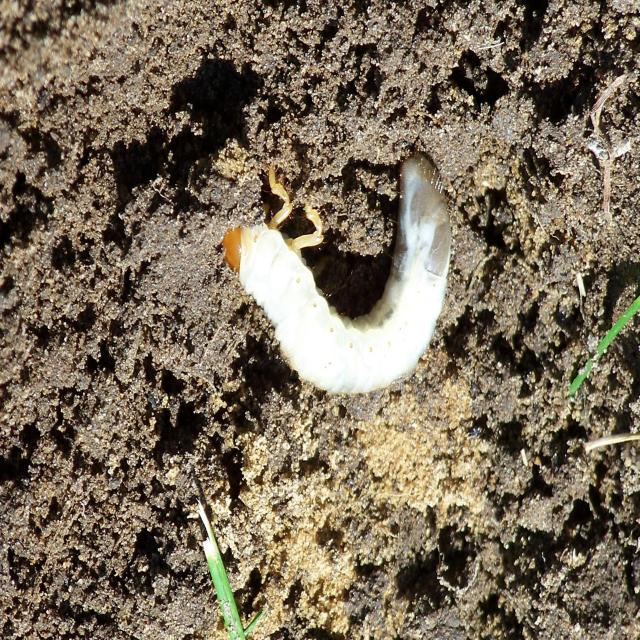grub: (203, 144, 457, 392)
